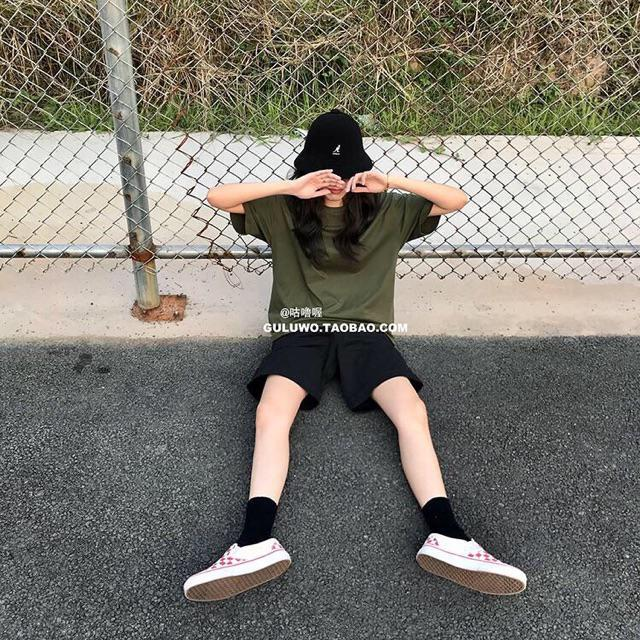Shirt: (231, 181, 440, 333)
